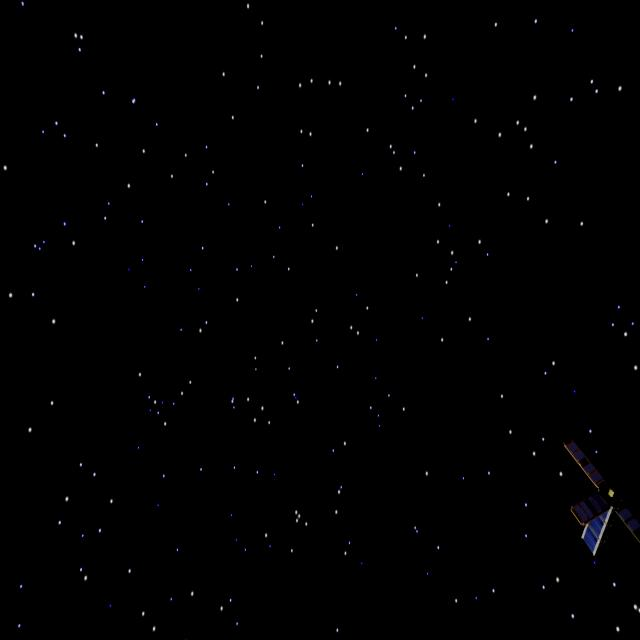satellite: (564, 436, 640, 561)
